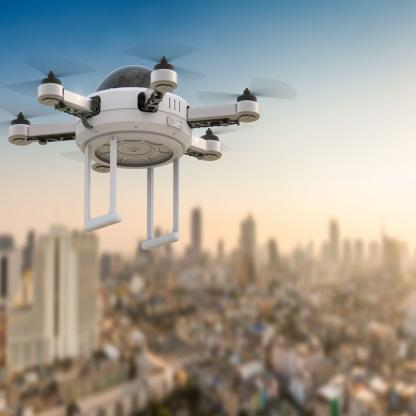drone: (0, 51, 293, 204)
